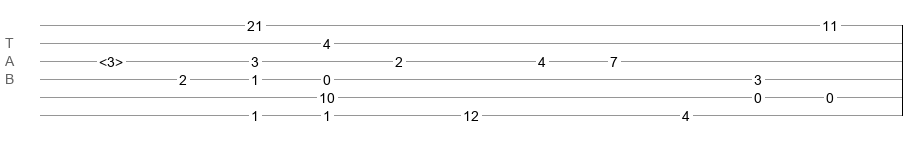0: (323, 72, 331, 82), (754, 90, 762, 100), (826, 90, 834, 100)
1: (251, 72, 259, 82), (251, 108, 259, 118), (323, 108, 331, 118)
10: (319, 90, 335, 100)
11: (822, 18, 838, 28)
12: (463, 108, 479, 118)
2: (179, 72, 187, 82), (395, 54, 403, 64)
21: (247, 18, 263, 28)
3: (251, 54, 259, 64), (754, 72, 762, 82)
4: (323, 36, 331, 46), (538, 54, 546, 64), (682, 108, 690, 118)
7: (610, 54, 618, 64)
harmonic: (99, 54, 123, 64)
